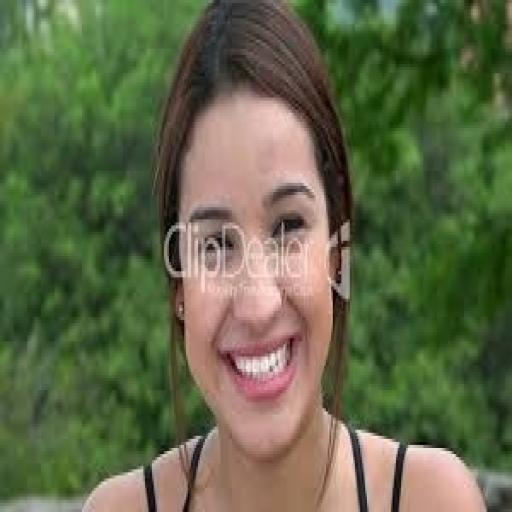laughing: (73, 0, 490, 509)
